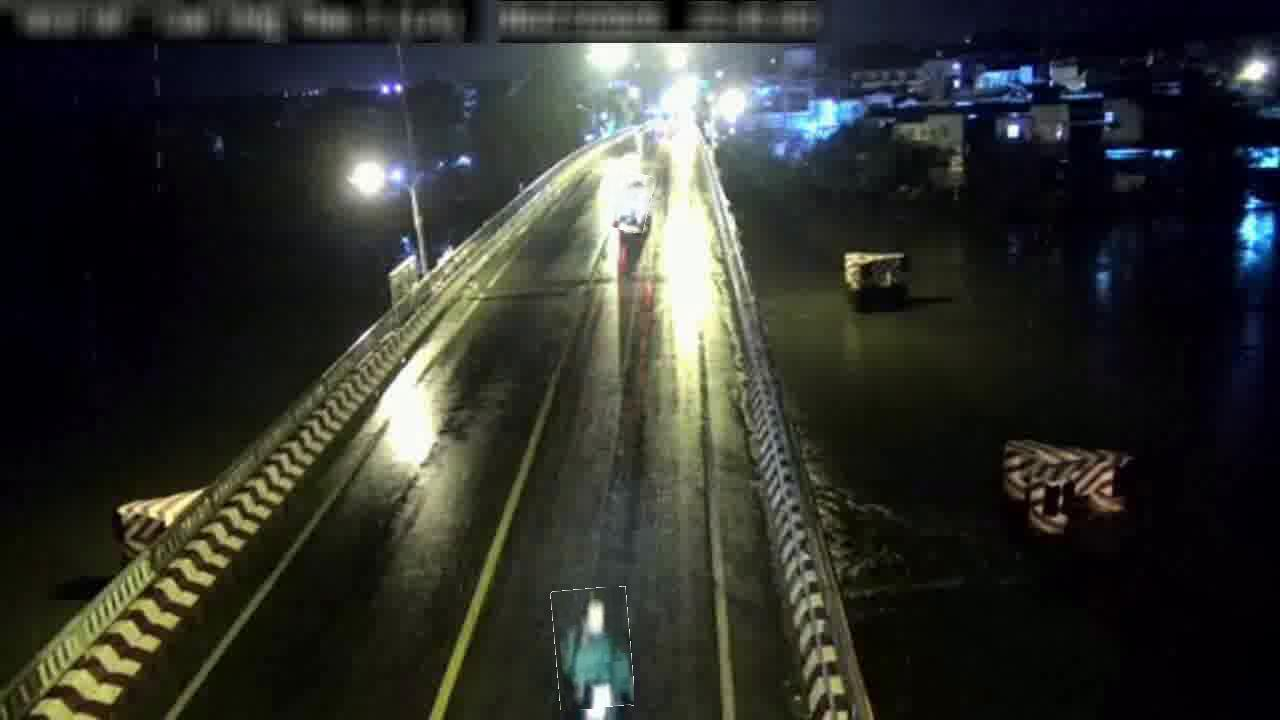container: (607, 171, 652, 233)
motorbike: (553, 588, 633, 710)
